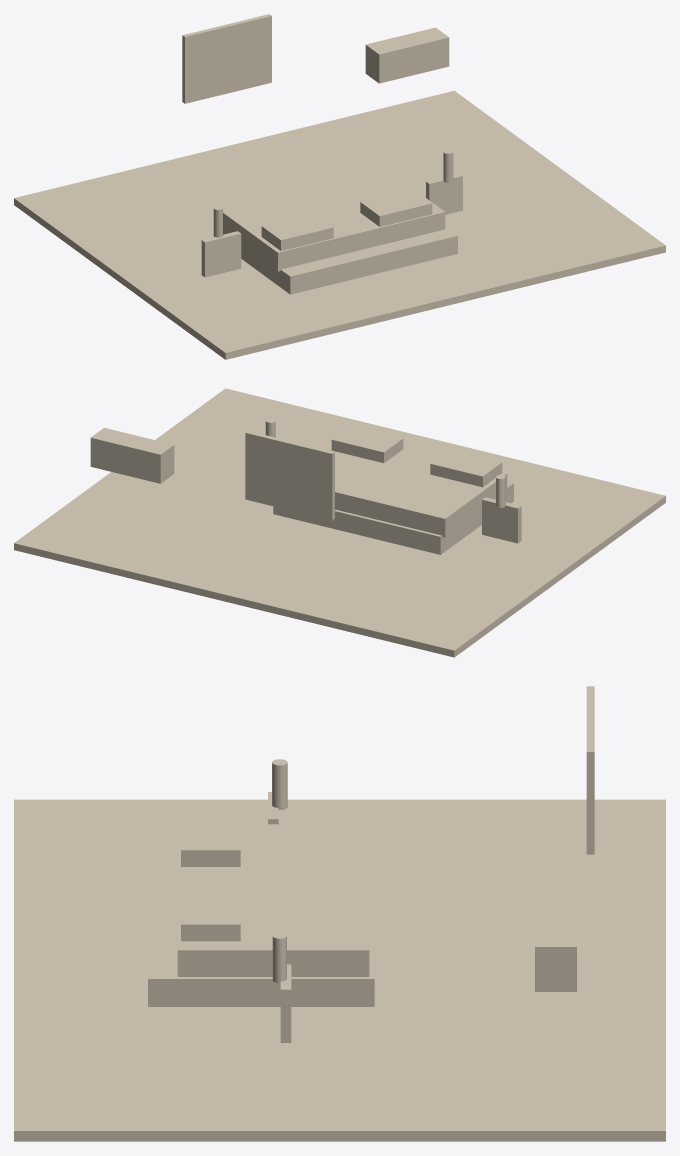
File: bedroom-minimalist.gltf
3 views of the same model, one above another, from view 1: azimuth 30°, elevation 25°; view 2: azimuth 150°, elevation 25°; view 3: azimuth 270°, elevation 25° (orthographic). The views are drawn at different scales.
Parts seen in each view (by area): view 1: cube-13, cube-15, cube-23, cube-14, cube-24, cube-16, cube-17, cube-18, cube-19; view 2: cube-13, cube-15, cube-23, cube-14, cube-24, cube-17, cube-16, cube-18; view 3: cube-13, cube-15, cube-14, cube-24, cube-16, cube-17, cube-23, cube-19, cylinder-20, cylinder-21.
Boxes of the visible parts, <box> form: cube-13: <box>14,90,665,359</box>; cube-15: <box>221,166,445,271</box>; cube-23: <box>182,14,271,103</box>; cube-14: <box>223,227,457,294</box>; cube-24: <box>365,27,449,83</box>; cube-16: <box>261,213,333,250</box>; cube-17: <box>360,189,432,226</box>; cube-18: <box>201,231,241,277</box>; cube-19: <box>426,173,462,214</box>; cube-13: <box>14,388,665,657</box>; cube-15: <box>319,432,507,537</box>; cube-23: <box>245,431,334,520</box>; cube-14: <box>273,481,513,554</box>; cube-24: <box>90,427,174,483</box>; cube-17: <box>331,425,403,463</box>; cube-16: <box>430,449,502,487</box>; cube-18: <box>482,497,521,543</box>; cube-13: <box>14,799,665,1141</box>; cube-15: <box>177,824,369,976</box>; cube-14: <box>148,853,374,1006</box>; cube-24: <box>535,894,576,991</box>; cube-16: <box>181,810,240,866</box>; cube-17: <box>181,885,240,941</box>; cube-23: <box>586,686,594,854</box>; cube-19: <box>280,964,291,1042</box>; cylinder-20: <box>272,759,287,810</box>; cylinder-21: <box>272,932,286,983</box>.
Bounding box in the file's own units: 6.24 × 2.05 × 5.19.
